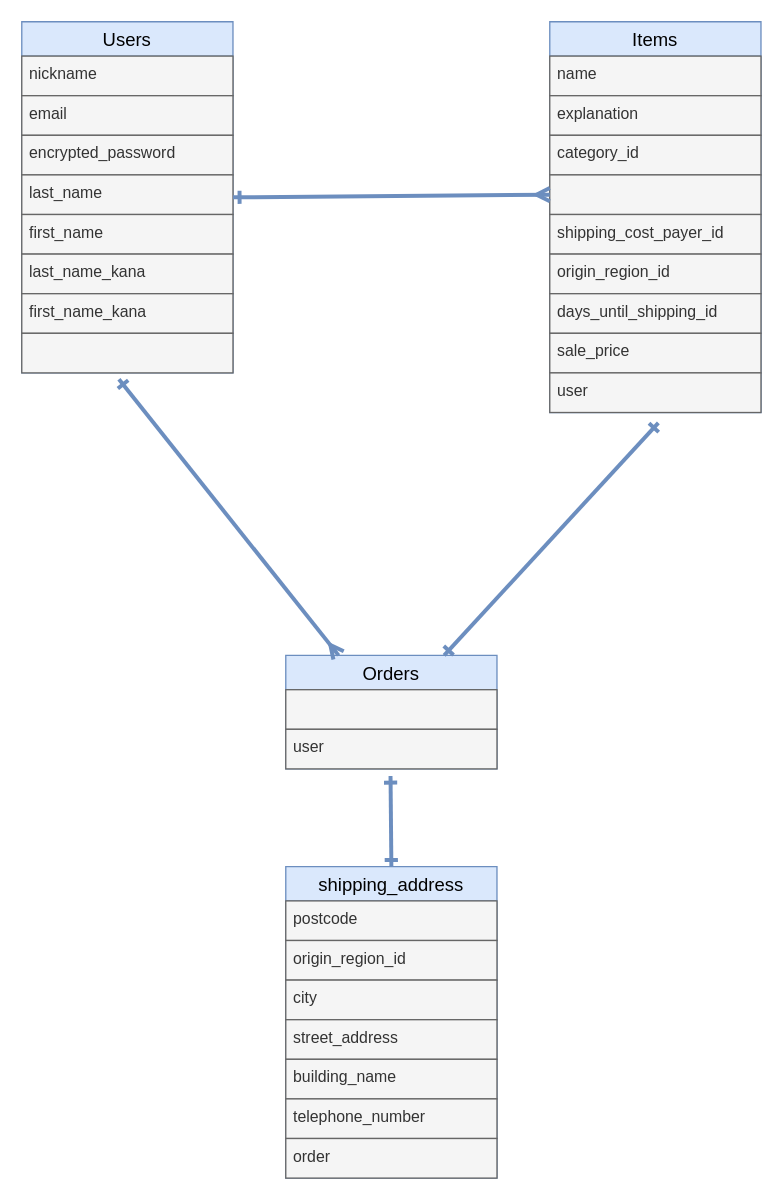
This 783x1200 diagram has some shape labels left out. The centre of each missing label's shape, as x and y in pixels:
"birthday" goes at (x=126, y=352).
"item" goes at (x=390, y=708).
"status_id" goes at (x=654, y=194).
